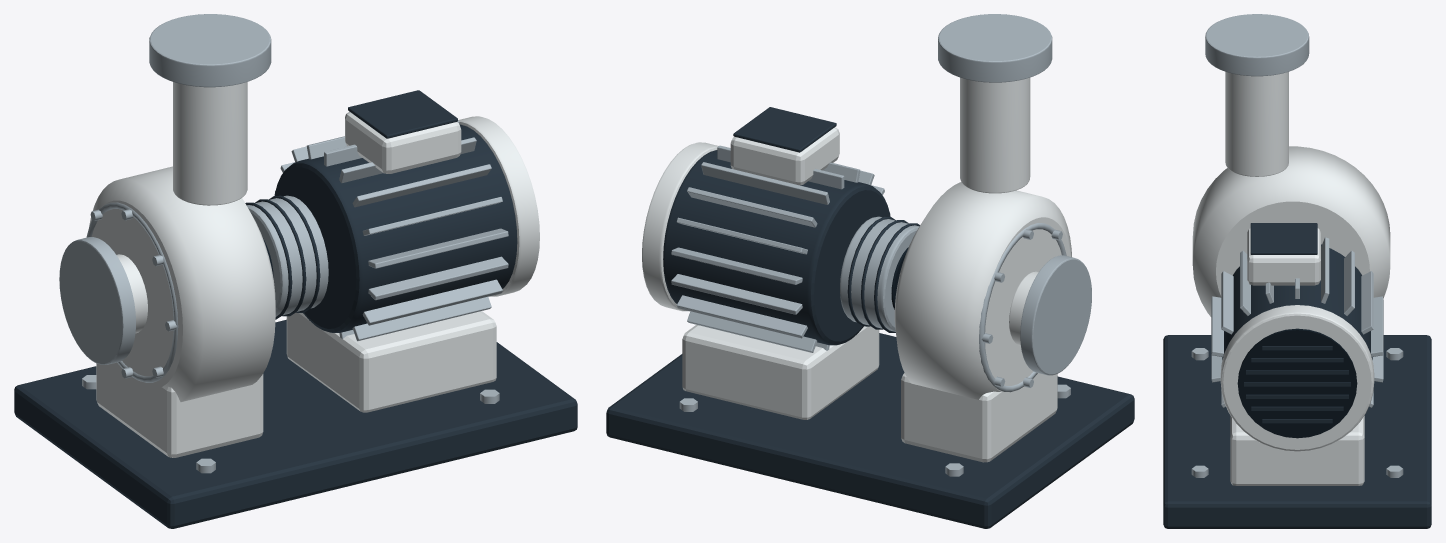
File: pump.glb
The picture shows the model from 3 angles, left to right: view 1: azimuth 30°, elevation 25°; view 2: azimuth 150°, elevation 25°; view 3: azimuth 270°, elevation 25°; orthographic projection. The views are drawn at different scales.
Visible parts, largest first — view 1: pump_graphite, pump_paint, pump_silver; view 2: pump_graphite, pump_paint, pump_silver; view 3: pump_paint, pump_graphite, pump_silver, pump_insert.
Boxes of the visible parts, box(x1,y1,x2,y2) form: pump_graphite: box(14, 90, 577, 528); pump_paint: box(89, 82, 539, 457); pump_silver: box(59, 14, 508, 473); pump_graphite: box(606, 107, 1134, 528); pump_paint: box(642, 77, 1071, 462); pump_silver: box(671, 14, 1091, 476); pump_paint: box(1192, 71, 1390, 485); pump_graphite: box(1163, 223, 1431, 528); pump_silver: box(1191, 14, 1403, 477); pump_insert: box(1237, 328, 1357, 438).
Bounding box in the file's own units: 1.2 × 1.2 × 0.8.
